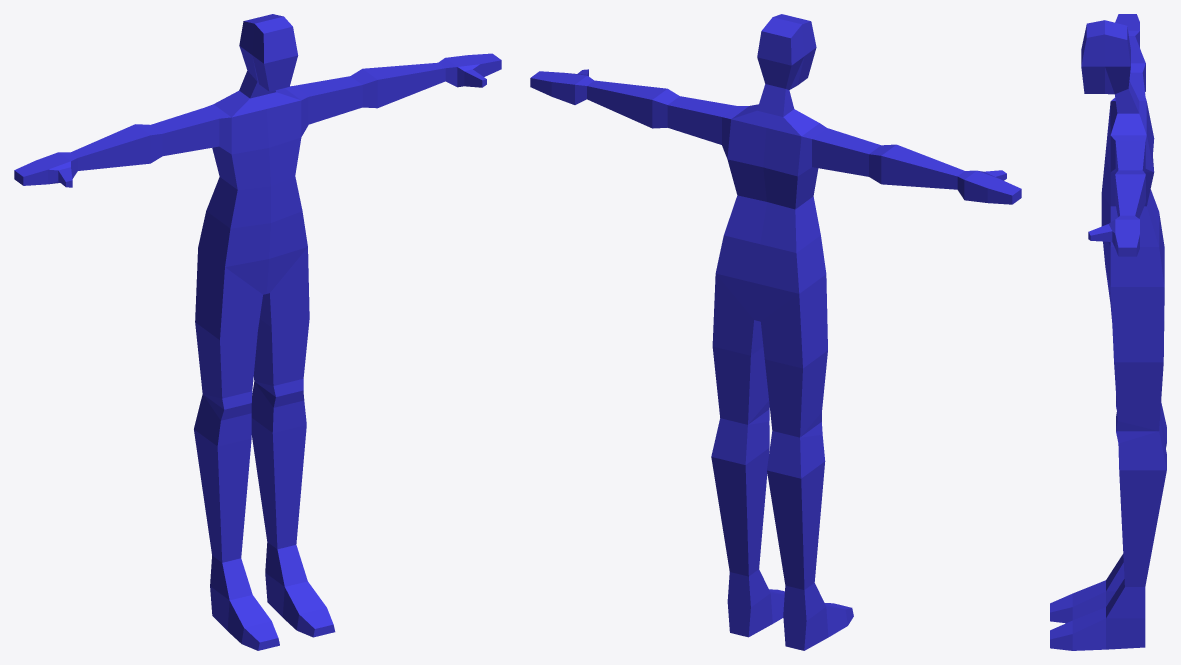
The model's file is Femaleboxmodels.fbx.
The picture shows the model from 3 angles, left to right: view 1: azimuth 30°, elevation 25°; view 2: azimuth 150°, elevation 25°; view 3: azimuth 270°, elevation 25°; orthographic projection.
Visible parts, largest first — view 1: Female; view 2: Female; view 3: Female.
Boxes of the visible parts, box(x1,y1,x2,y2) form: Female: box(14, 14, 501, 650); Female: box(530, 14, 1021, 650); Female: box(1050, 14, 1166, 650).
Size of the model in its own units: 780 by 937 by 165.
